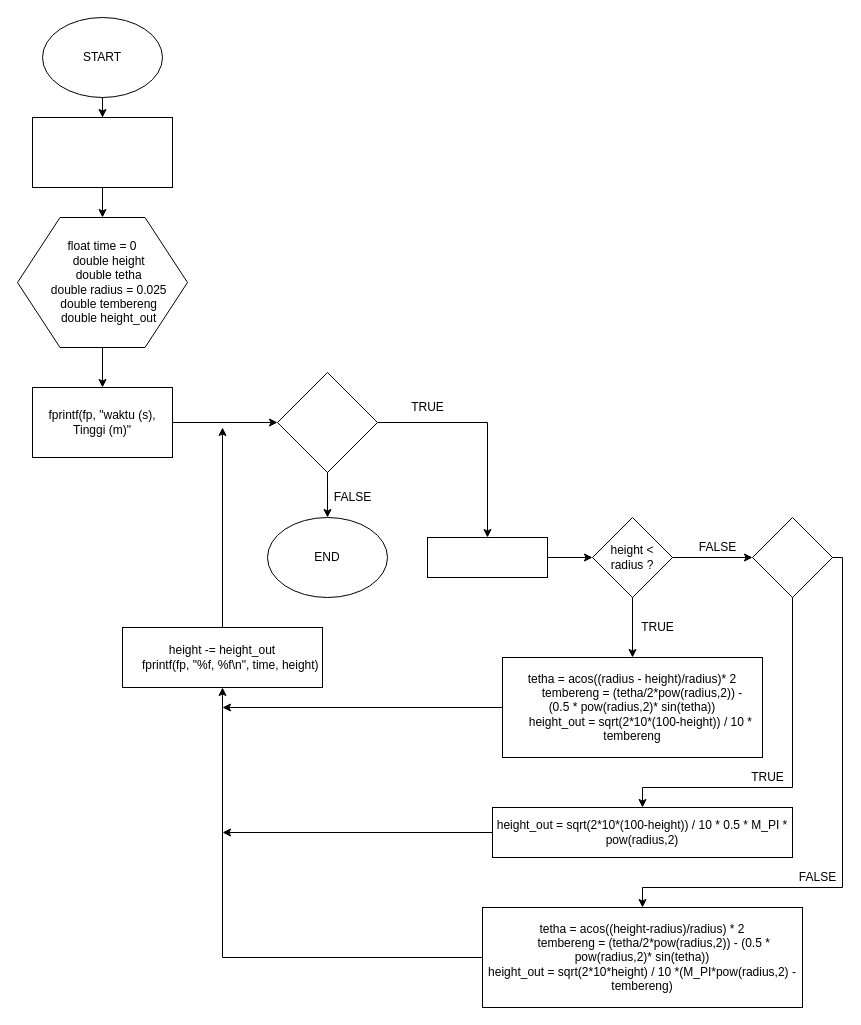
Image size: 861x1025. Some labels were removed from this diagram. Here are the shapes that lost their labels. From the top down, the centre of each, then its label:
(x=102, y=152): fopen("heightvstime.csv", "w+")
(x=327, y=422): time <= 11.5?
(x=487, y=557): time += 0.1 height += 0.0001
(x=792, y=557): height == radius ?
